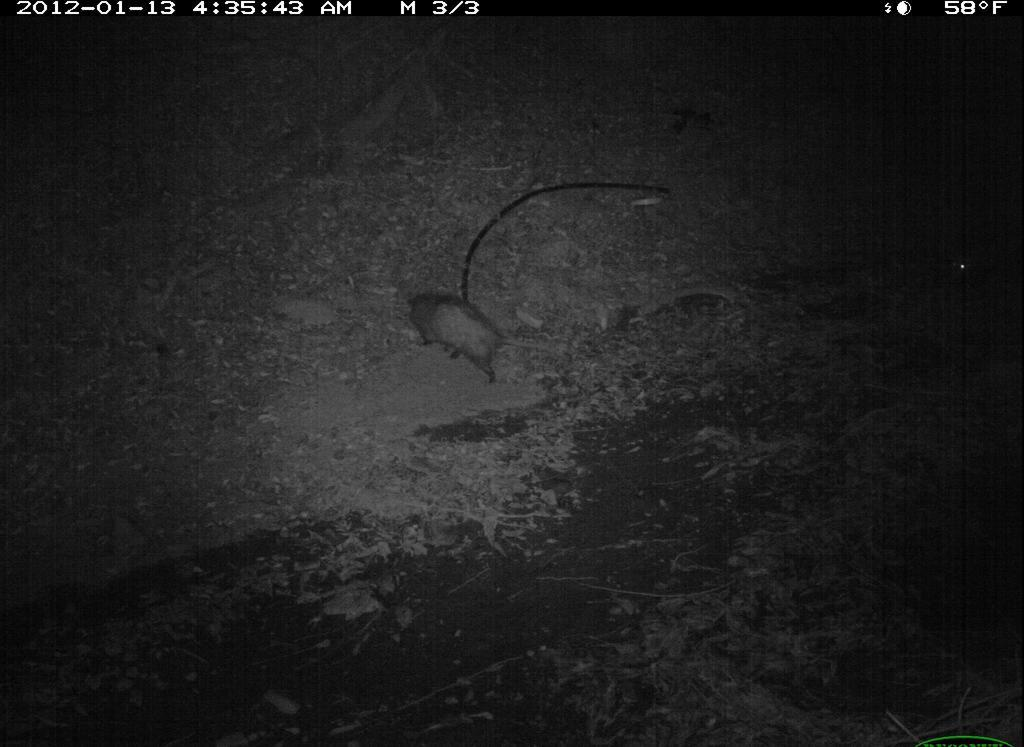opossum: (410, 286, 557, 383)
